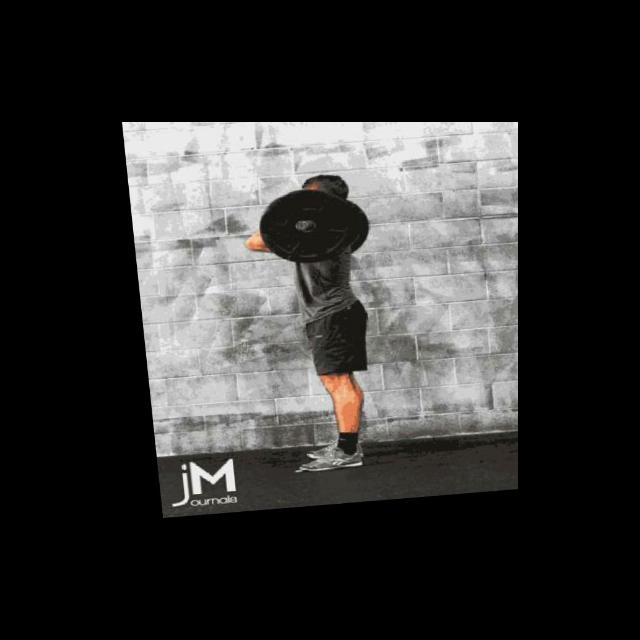barbell: (251, 186, 355, 271)
